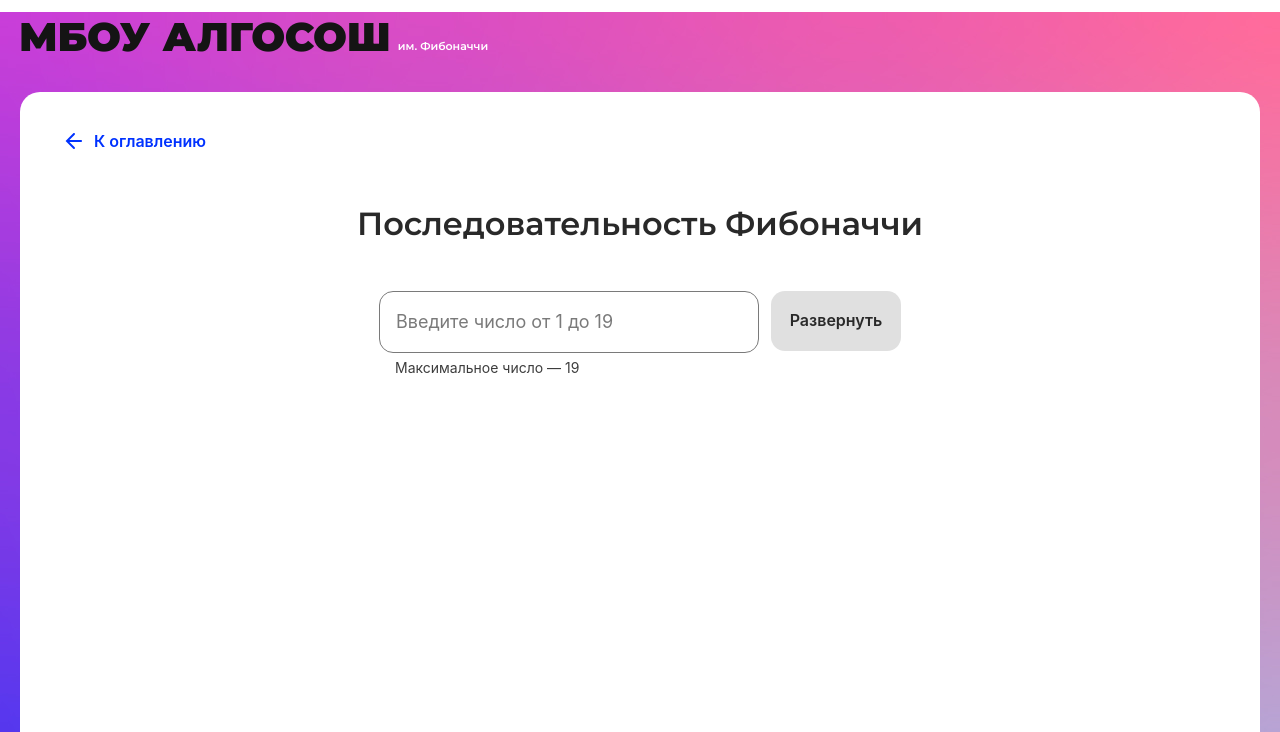
Test: Тесты страницы вывода последовательности Фибоначчи › Проверка состояния кнопки › Кнопка верно меняет значение атрибута disabled
The image size is (1280, 732).
Expected: the button "Развернуть" is disabled, [771,291,901,351]
In the field with placeholder "Введите число от 1 до 19": (569, 322) [379,291,759,353], type "11"
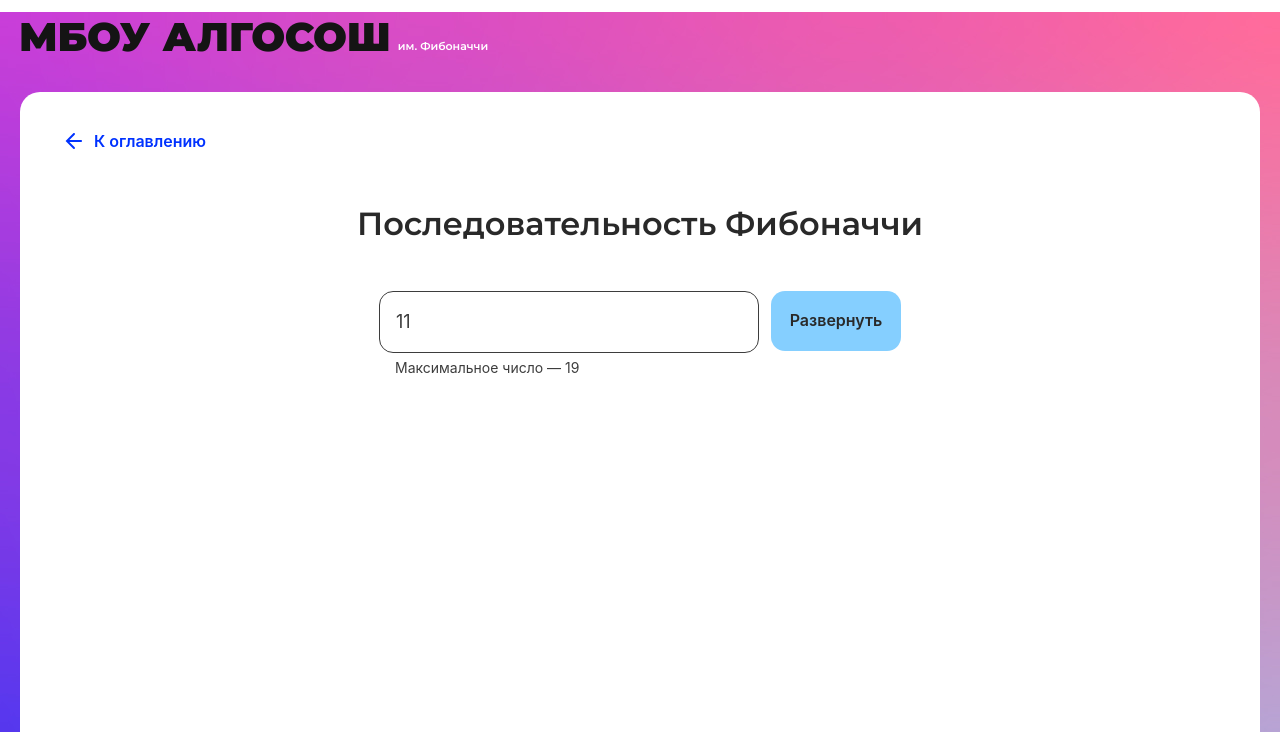
Expected: the text "Развернуть" is enabled
Clear the field: (569, 322) [379,291,759,353]
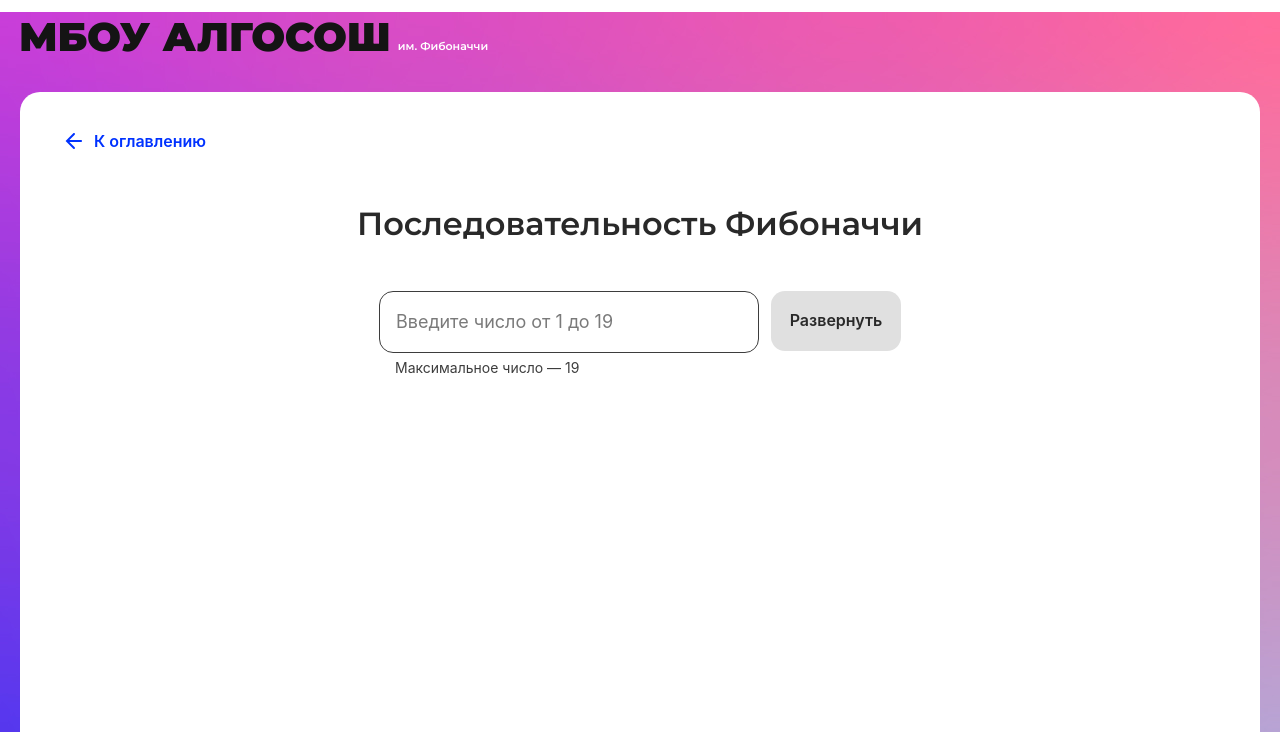
Now the button "Развернуть" is disabled, box [771,291,901,351]
